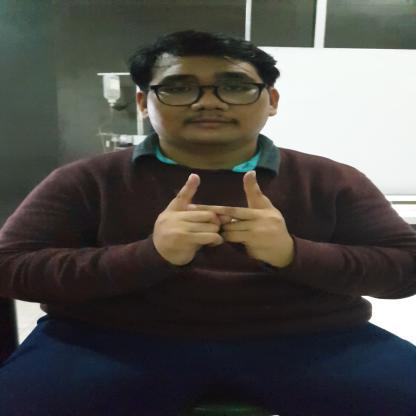H: (148, 170, 292, 264)
